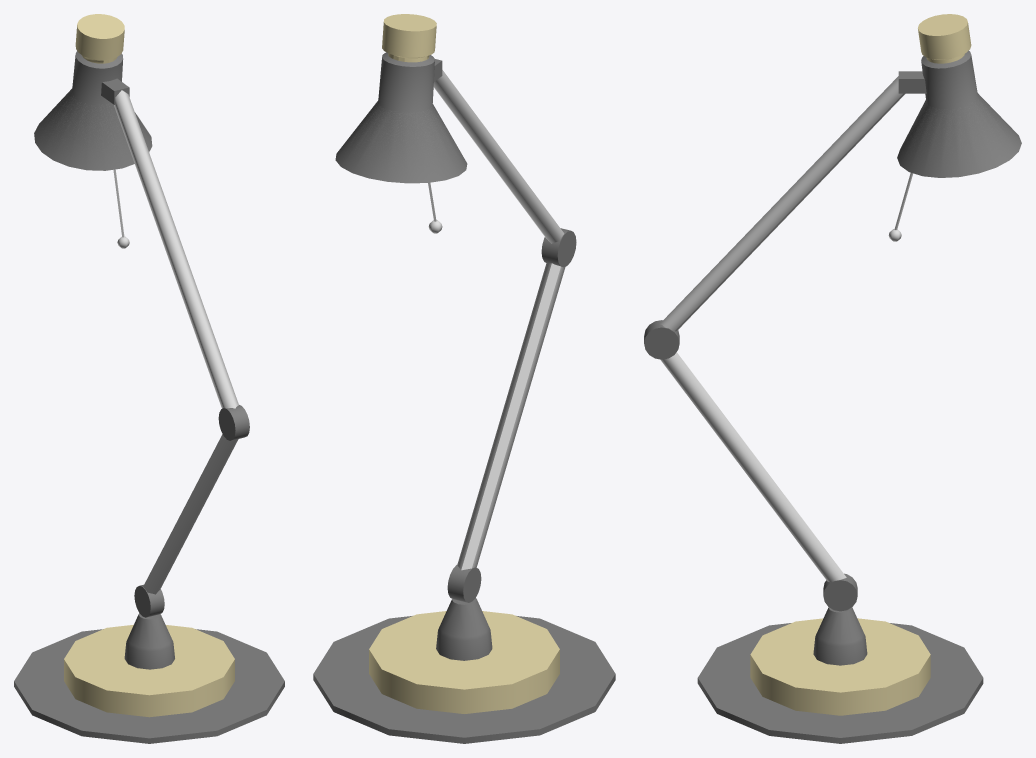
Rendered from Flexo02.fbx.
3 views of the same model, side by side, from view 1: azimuth 30°, elevation 25°; view 2: azimuth 150°, elevation 25°; view 3: azimuth 270°, elevation 25° (orthographic). The views are drawn at different scales.
Parts seen in each view (by area): view 1: polySurface28, polySurface29, polySurface31, polySurface22, polySurface21, polySurface30, polySurface19, Flexo03, polySurface27, polySurface26, polySurface25; view 2: polySurface28, polySurface29, polySurface31, polySurface21, polySurface22, polySurface30, Flexo03, polySurface19, polySurface26, polySurface27; view 3: polySurface28, polySurface29, polySurface31, polySurface22, polySurface21, polySurface30, polySurface19, Flexo03, polySurface27, polySurface26, polySurface25.
Boxes of the visible parts, x1,y1,x2,y2 form: polySurface28: (14,629,284,743); polySurface29: (64,624,234,717); polySurface31: (34,51,152,170); polySurface22: (114,90,238,408); polySurface21: (143,434,238,594); polySurface30: (124,613,174,669); polySurface19: (75,14,124,63); Flexo03: (34,89,151,170); polySurface27: (218,405,249,440); polySurface26: (134,584,164,617); polySurface25: (101,78,129,104); polySurface28: (313,616,615,743); polySurface29: (369,611,559,713); polySurface31: (335,52,467,183); polySurface21: (457,263,565,570); polySurface22: (433,70,564,243); polySurface30: (436,598,492,660); Flexo03: (336,102,466,183); polySurface19: (382,14,436,62); polySurface26: (447,565,481,602); polySurface27: (541,228,576,267); polySurface28: (697,623,983,743); polySurface29: (750,618,930,715); polySurface31: (897,50,1021,177); polySurface22: (659,76,905,331); polySurface21: (660,352,846,582); polySurface30: (813,607,867,665); polySurface19: (918,14,971,63); Flexo03: (898,94,1020,177); polySurface27: (644,320,679,359); polySurface26: (823,573,857,611); polySurface25: (898,71,926,93).
Size of the model in its own units: 0.1735 by 0.4434 by 0.2295.
